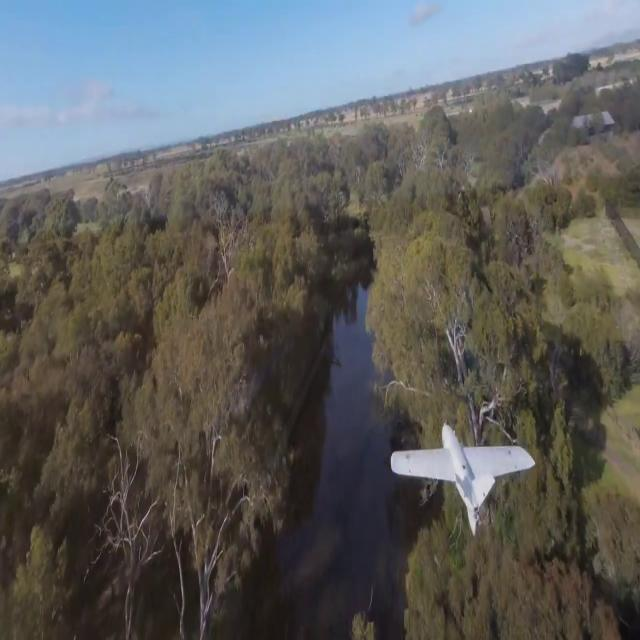iha: (387, 457, 539, 489)
